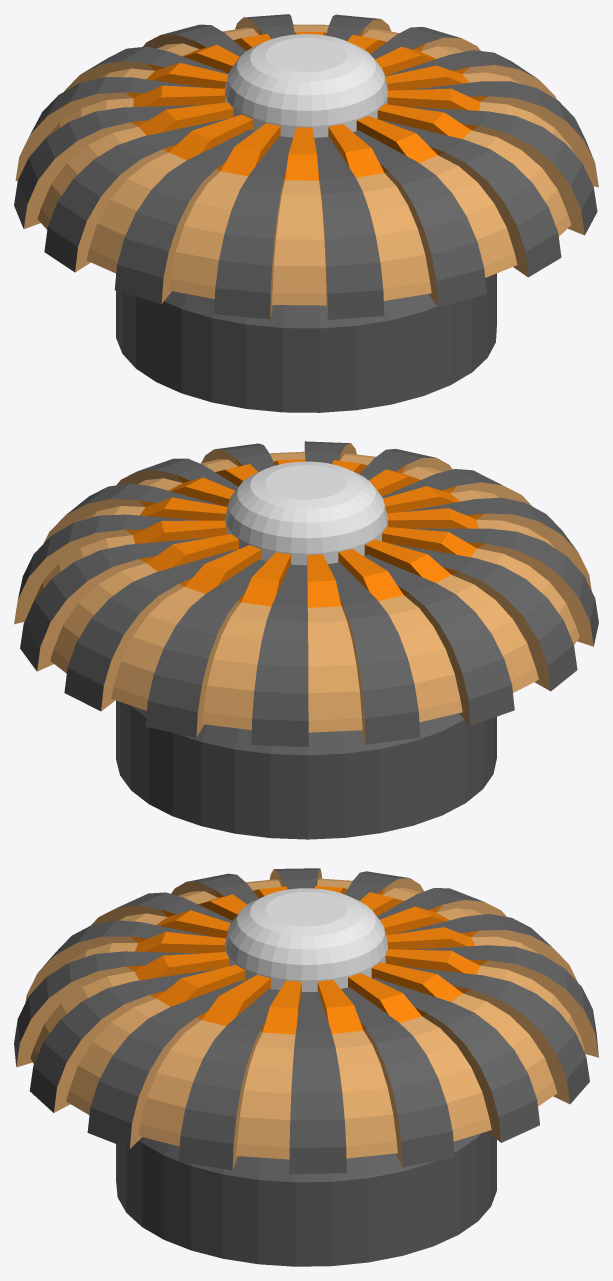
The model's file is BumperA.fbx.
3 views of the same model, one above another, from view 1: azimuth 30°, elevation 25°; view 2: azimuth 150°, elevation 25°; view 3: azimuth 270°, elevation 25° (orthographic).
Parts seen in each view (by area): view 1: BumperA; view 2: BumperA; view 3: BumperA.
Boxes of the visible parts, x1=… form: BumperA: x1=14, y1=14, x2=598, y2=412; BumperA: x1=14, y1=441, x2=598, y2=839; BumperA: x1=14, y1=868, x2=598, y2=1266.
Size of the model in its own units: 392 by 205 by 392.
